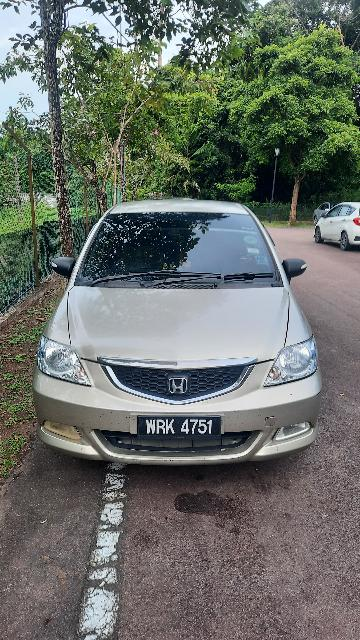License_Plate: (134, 416, 227, 443)
car: (37, 197, 324, 466), (297, 192, 360, 253)
